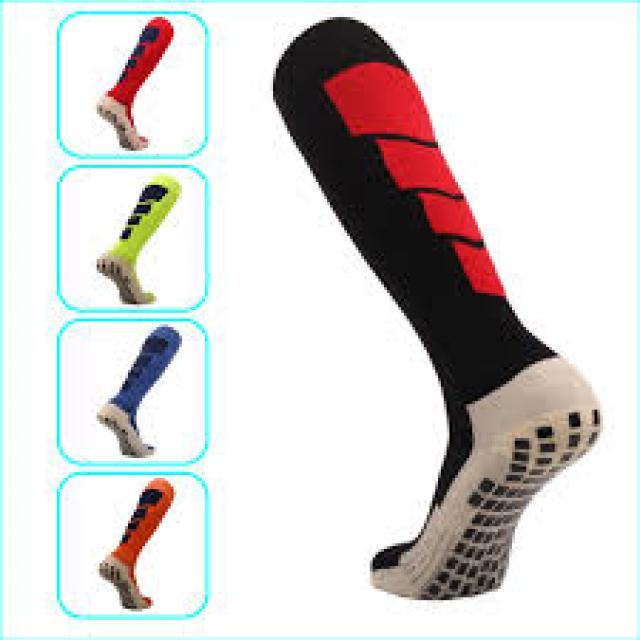sock: (270, 14, 600, 600)
